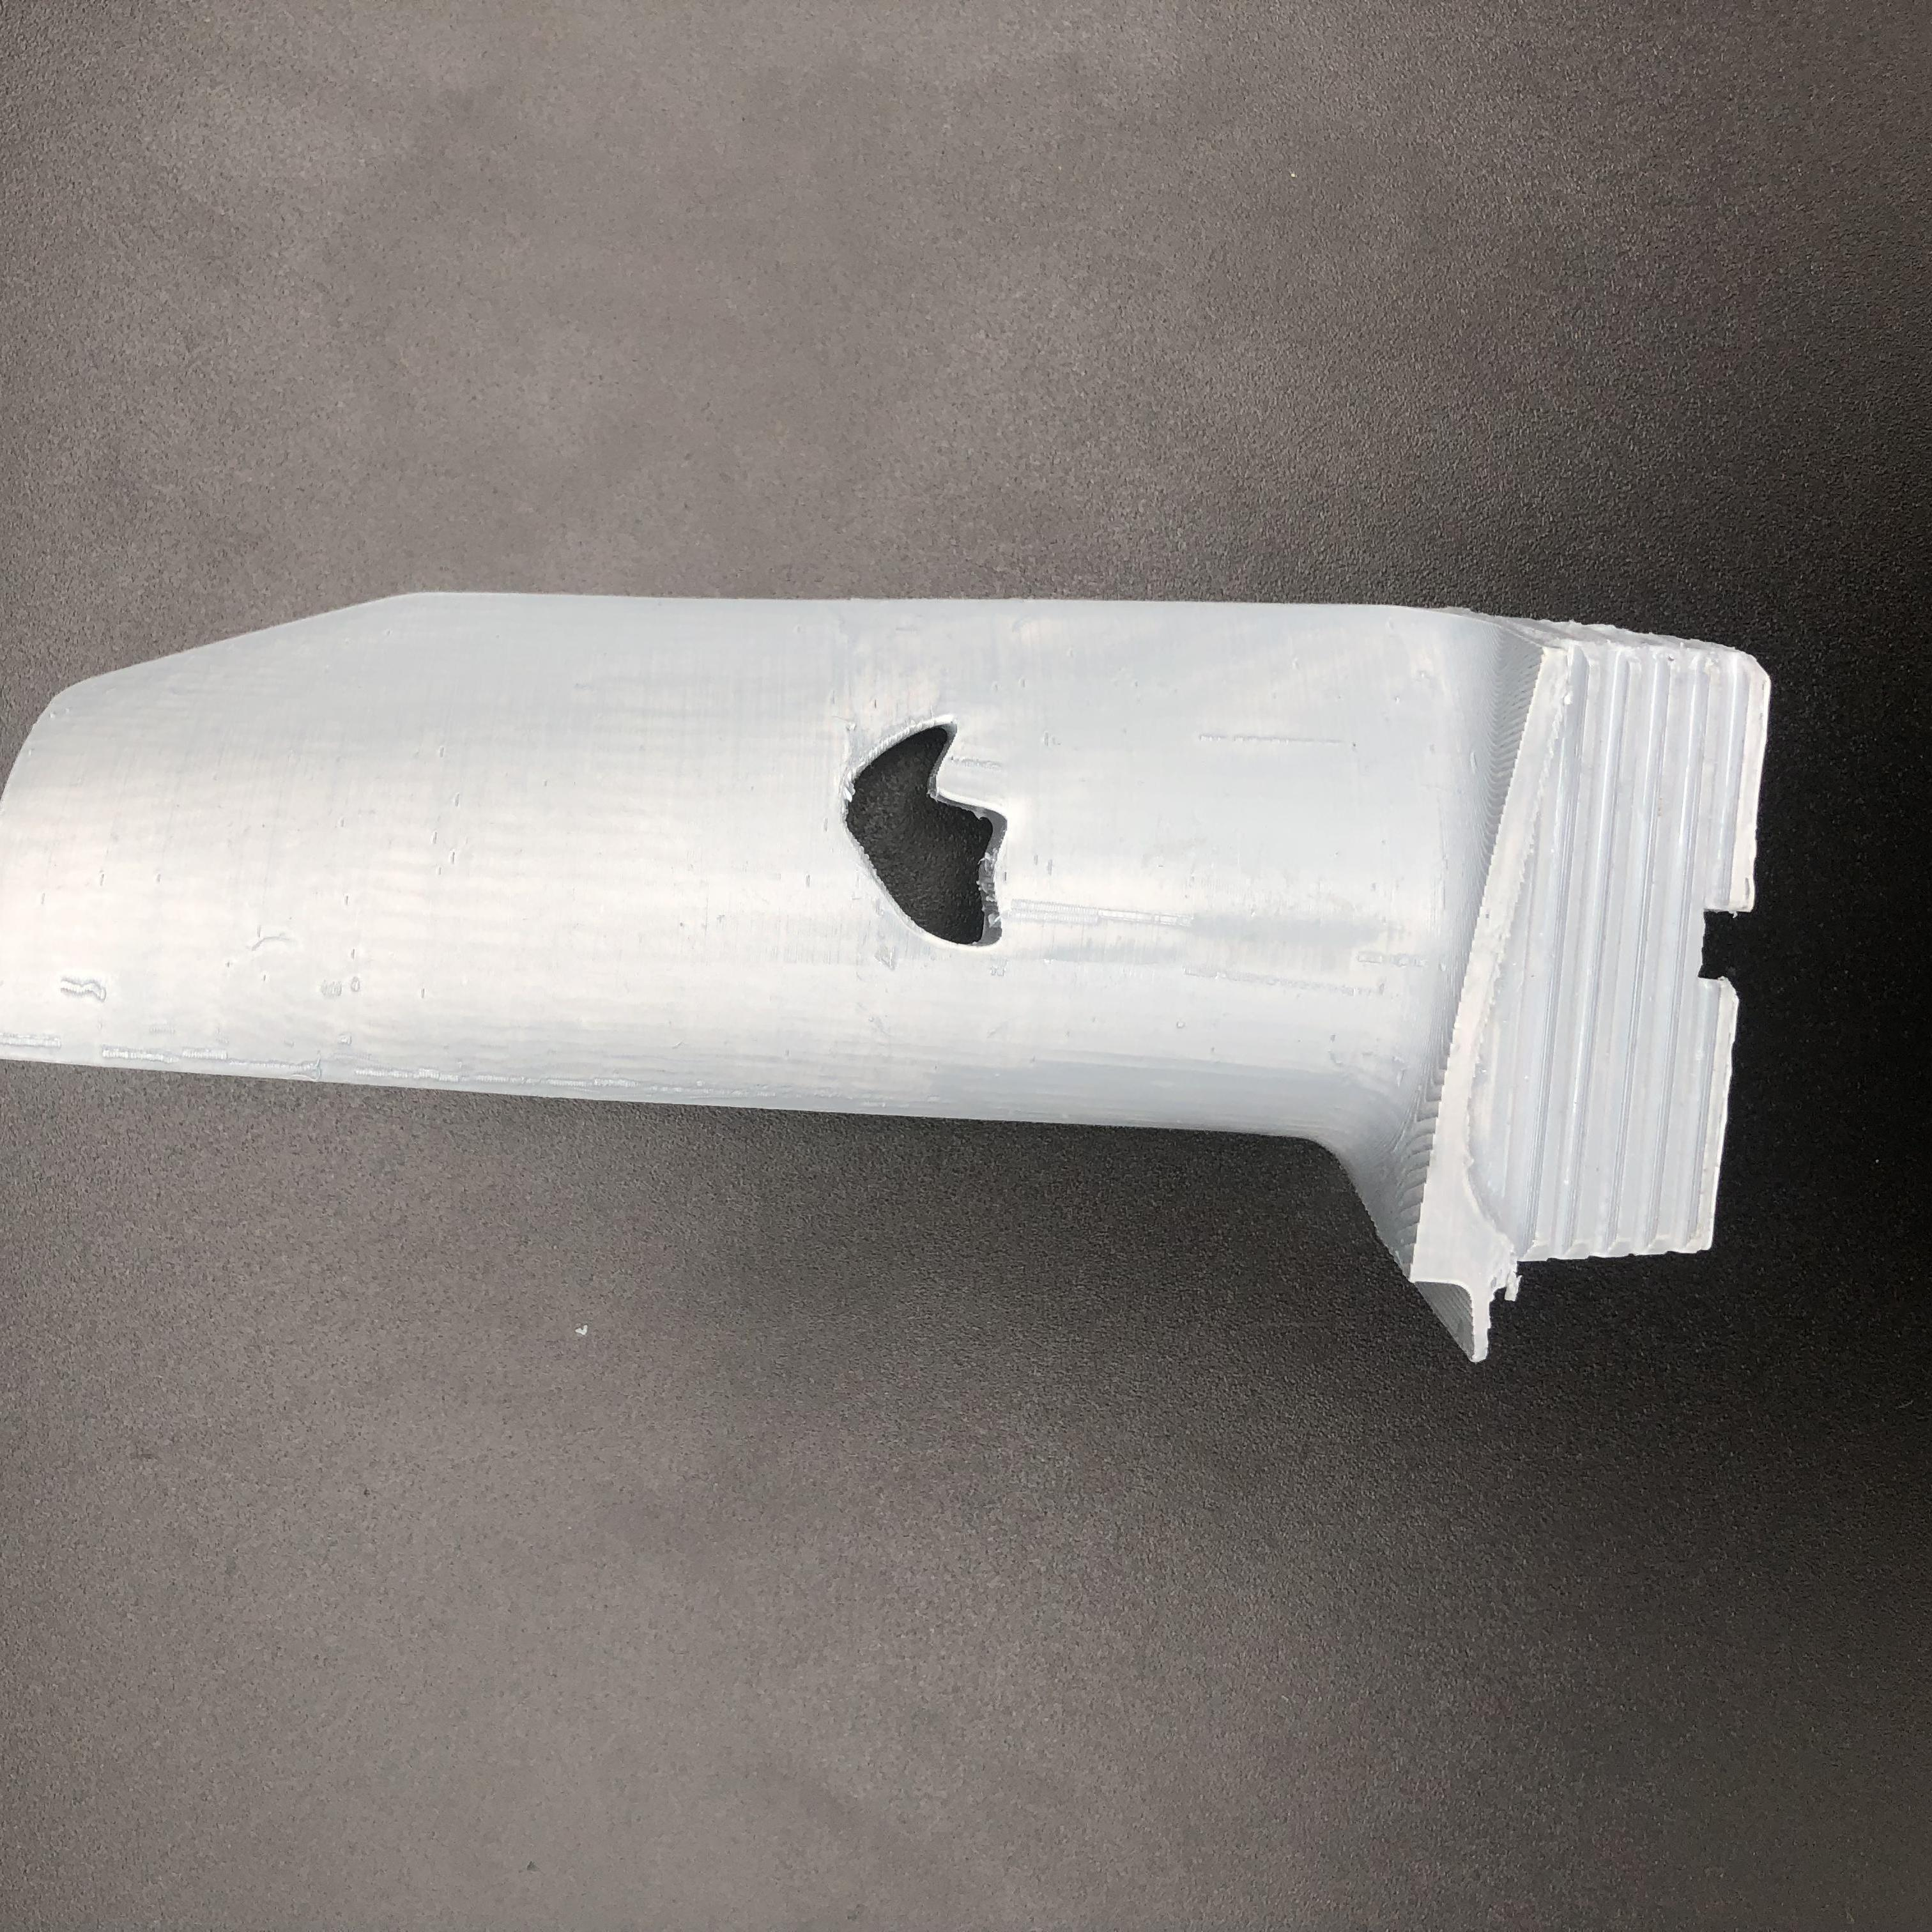breakdown: (819, 717, 1033, 952)
